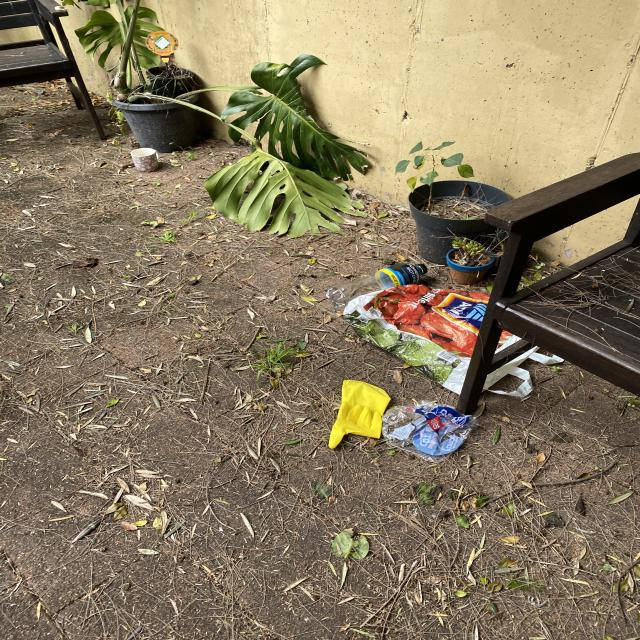bag: (344, 286, 544, 397)
bottle: (324, 263, 428, 310)
cup: (130, 148, 160, 172)
glove: (329, 380, 390, 449)
wrappers: (382, 403, 476, 462)
